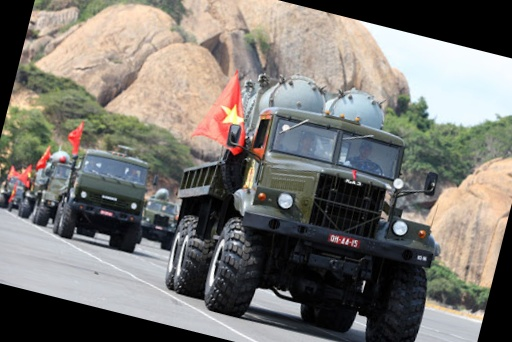plate: (329, 231, 360, 248)
